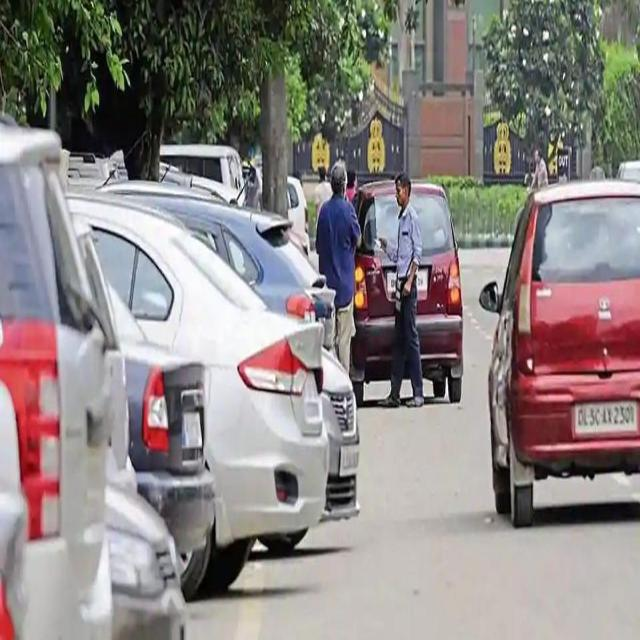plate: (574, 400, 637, 437)
